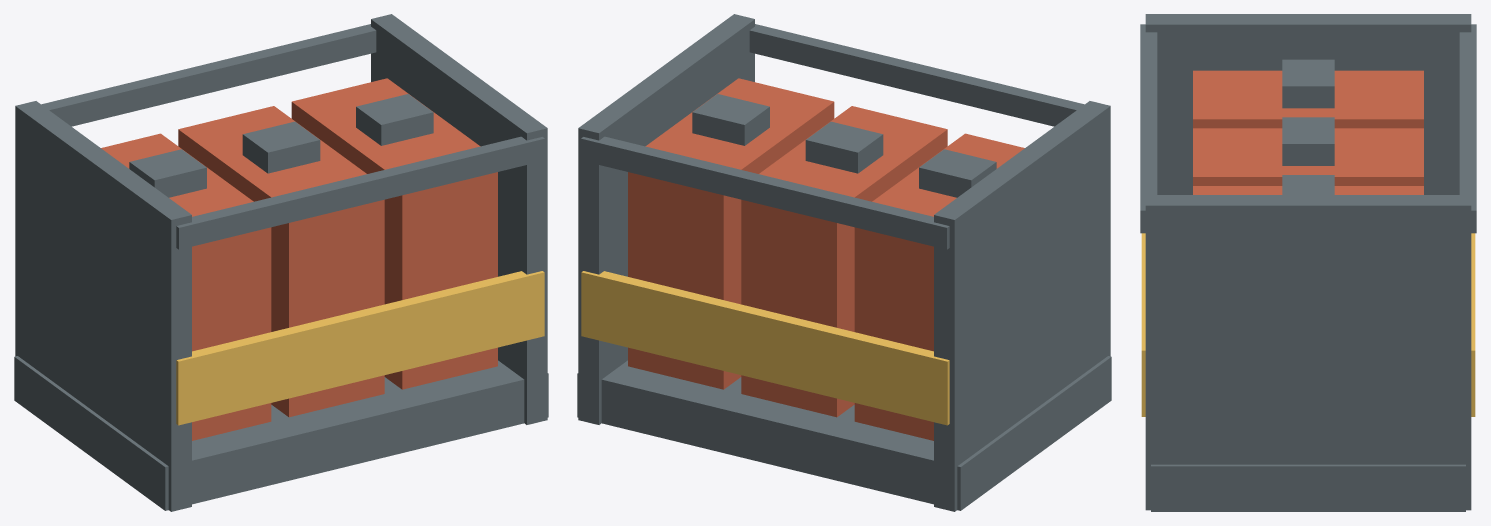
The model's file is fuelcrate.glb.
3 renders of one model, left to right at view 1: azimuth 30°, elevation 25°; view 2: azimuth 150°, elevation 25°; view 3: azimuth 270°, elevation 25°, orthographic. The views are drawn at different scales.
Visible parts, largest first — view 1: Cube.007, Cube, Cube.009, Cube.003, Cube.005, Cube.008, Cube.001, Cube.010, Cube.012, Cube.004, Cube.006, Cube.002; view 2: Cube.007, Cube, Cube.011, Cube.003, Cube.005, Cube.008, Cube.001, Cube.012, Cube.010, Cube.004, Cube.006, Cube.002; view 3: Cube.008, Cube.007, Cube, Cube.001, Cube.003, Cube.010, Cube.012, Cube.002, Cube.004, Cube.005, Cube.006, Cube.009 (+1 smaller).
Boxes of the visible parts, x1,y1,x2,y2 form: Cube.007: [15, 101, 191, 511]; Cube: [14, 356, 548, 510]; Cube.009: [176, 271, 544, 425]; Cube.003: [178, 106, 384, 417]; Cube.005: [291, 78, 497, 389]; Cube.008: [371, 14, 547, 424]; Cube.001: [101, 133, 271, 440]; Cube.010: [176, 136, 544, 249]; Cube.012: [41, 24, 376, 126]; Cube.004: [242, 121, 320, 173]; Cube.006: [356, 94, 433, 145]; Cube.002: [129, 149, 206, 197]; Cube.007: [934, 101, 1110, 511]; Cube: [577, 356, 1111, 510]; Cube.011: [581, 271, 949, 425]; Cube.003: [741, 106, 947, 417]; Cube.005: [628, 78, 834, 389]; Cube.008: [578, 14, 754, 424]; Cube.001: [854, 133, 1024, 440]; Cube.012: [581, 136, 949, 249]; Cube.010: [749, 24, 1084, 126]; Cube.004: [805, 121, 883, 173]; Cube.006: [692, 94, 769, 145]; Cube.002: [919, 149, 996, 197]; Cube.008: [1145, 195, 1471, 510]; Cube.007: [1145, 14, 1471, 194]; Cube: [1151, 464, 1465, 511]; Cube.001: [1193, 70, 1423, 128]; Cube.003: [1193, 128, 1423, 185]; Cube.010: [1140, 24, 1157, 233]; Cube.012: [1459, 24, 1476, 233]; Cube.002: [1282, 59, 1334, 108]; Cube.004: [1282, 117, 1334, 165]; Cube.005: [1193, 186, 1423, 194]; Cube.006: [1282, 175, 1334, 194]; Cube.009: [1141, 233, 1145, 416].
Size of the model in its own units: 2.2 by 1.6 by 1.6.
